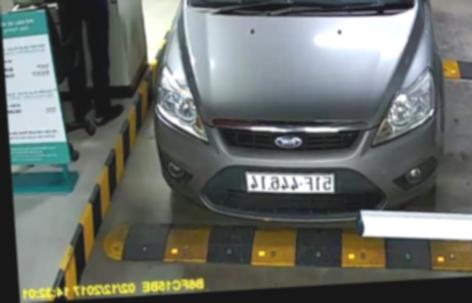License_Plate: (243, 168, 339, 201)
